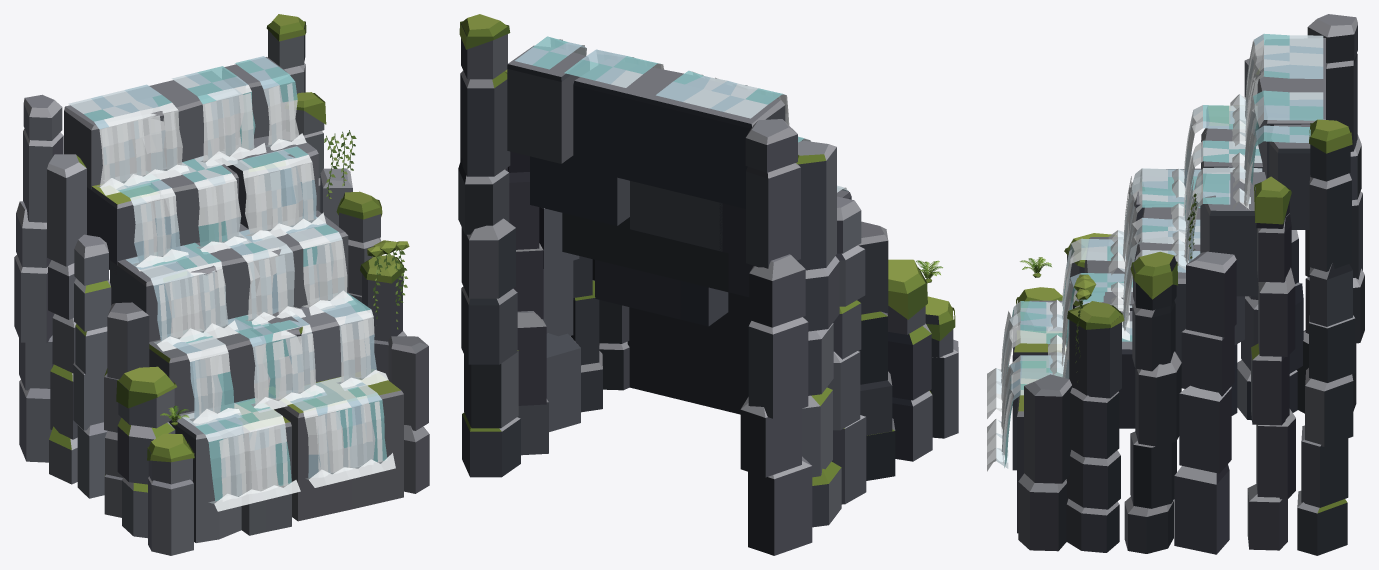
The model's file is wf_cascade_steps.glb.
The picture shows the model from 3 angles, left to right: view 1: azimuth 30°, elevation 25°; view 2: azimuth 150°, elevation 25°; view 3: azimuth 270°, elevation 25°; orthographic projection. The views are drawn at different scales.
Visible parts, largest first — view 1: wf_cascade_steps; view 2: wf_cascade_steps; view 3: wf_cascade_steps.
Boxes of the visible parts, <box> form: wf_cascade_steps: <box>14,14,429,555</box>; wf_cascade_steps: <box>458,14,958,555</box>; wf_cascade_steps: <box>987,14,1364,555</box>.
Size of the model in its own units: 12.4 by 15.22 by 12.42.
